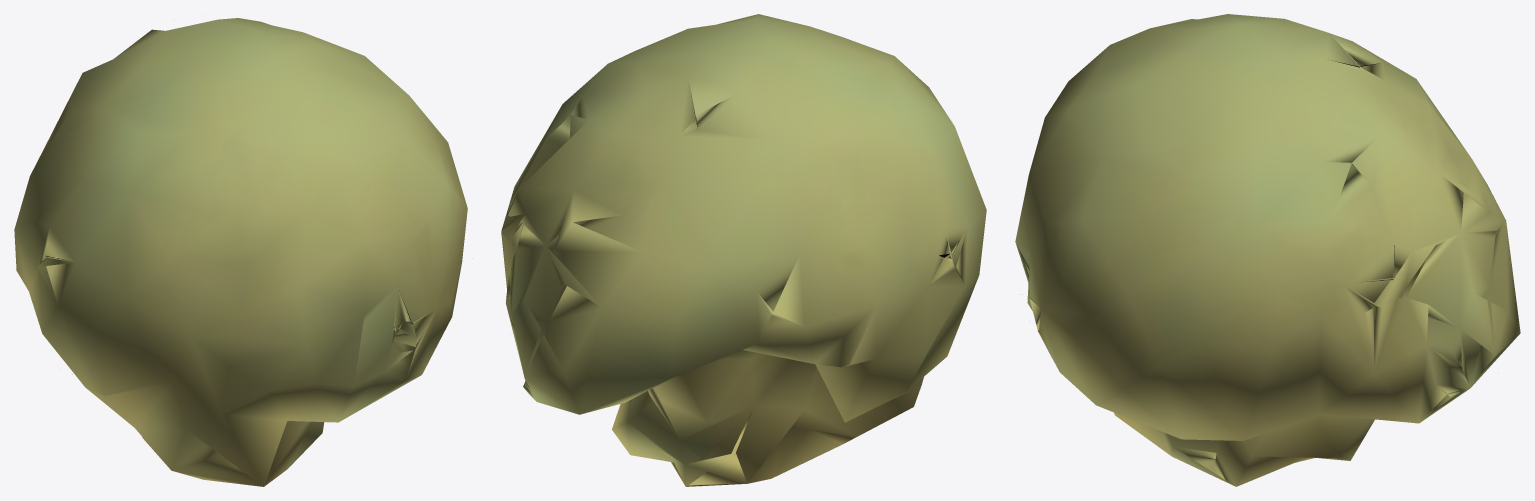
File: diploria_lo.glb
3 renders of one model, left to right at view 1: azimuth 30°, elevation 25°; view 2: azimuth 150°, elevation 25°; view 3: azimuth 270°, elevation 25°, orthographic.
Parts seen in each view (by area): view 1: diploria_far; view 2: diploria_far; view 3: diploria_far.
Part boxes in pixels (x1=…): diploria_far: x1=14, y1=18, x2=467, y2=486; diploria_far: x1=501, y1=14, x2=986, y2=486; diploria_far: x1=1015, y1=14, x2=1520, y2=486.
Bounding box in the file's own units: 0.272 × 0.2654 × 0.2893.
Materials: 1 (1 with a texture image).
